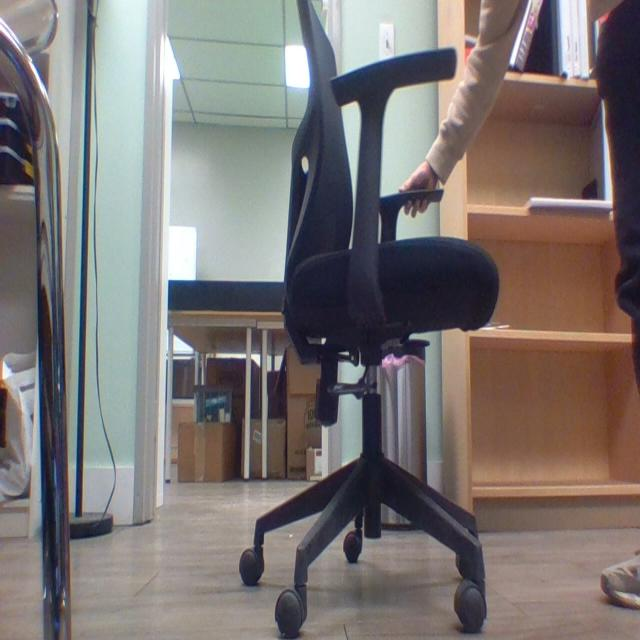black-chair: (238, 0, 504, 639)
